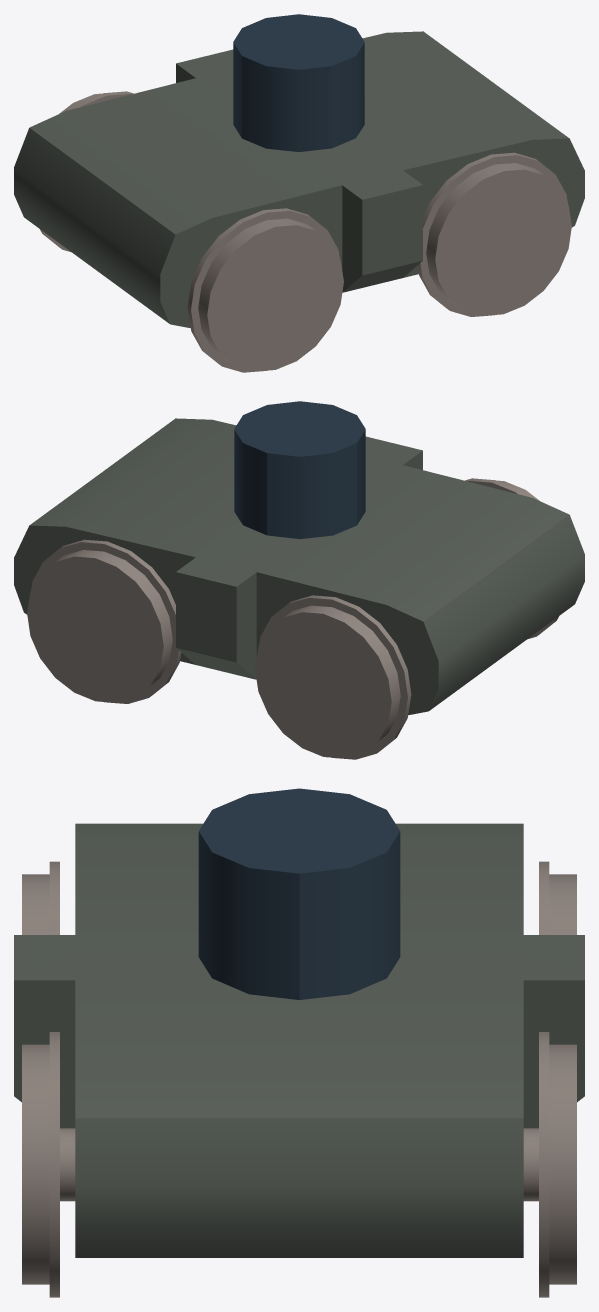
Rendered from trainbottom.glb.
3 renders of one model, top to bottom at view 1: azimuth 30°, elevation 25°; view 2: azimuth 150°, elevation 25°; view 3: azimuth 270°, elevation 25°, orthographic. The views are drawn at different scales.
Parts seen in each view (by area): view 1: Circle.003; view 2: Circle.003; view 3: Circle.003.
Boxes of the visible parts, x1,y1,x2,y2 form: Circle.003: (14, 14, 584, 372); Circle.003: (14, 401, 584, 759); Circle.003: (14, 788, 584, 1297).
Bounding box in the file's own units: 3.73 × 2.02 × 2.83.
1 material, 1 textured.
